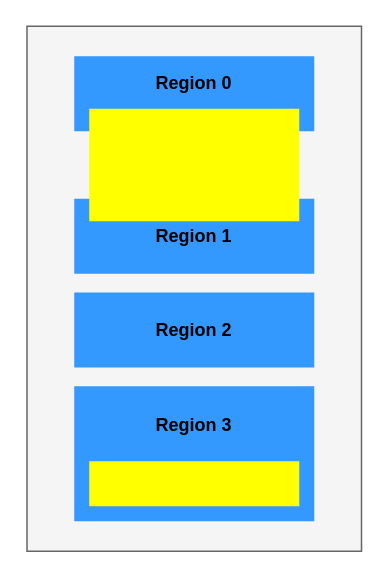
Some shapes in this 387 by 578 pixel diagram are drawn without their labels. The shapes that lost their labels are listed below. From the top down, each one's box as (x1, y1, x2, y2) in pixels, then its label:
(88, 108, 298, 220): Region4
(88, 460, 298, 506): Region5
